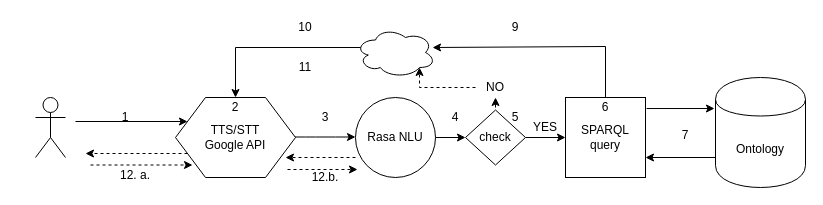
This 823x205 diagram has some shape labels left out. The centre of each missing label's shape, as x and y in pixels:
"Human User" belongs at (x=50, y=127).
"Response builder" belongs at (x=395, y=52).
